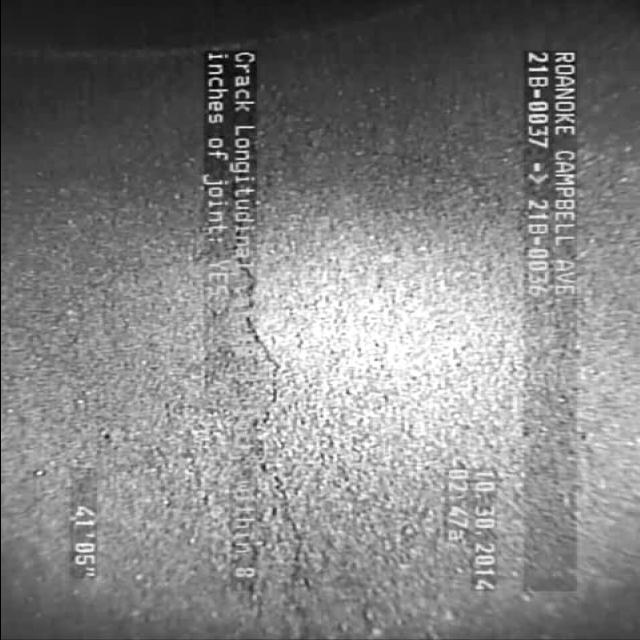Crack: (232, 308, 304, 560)
